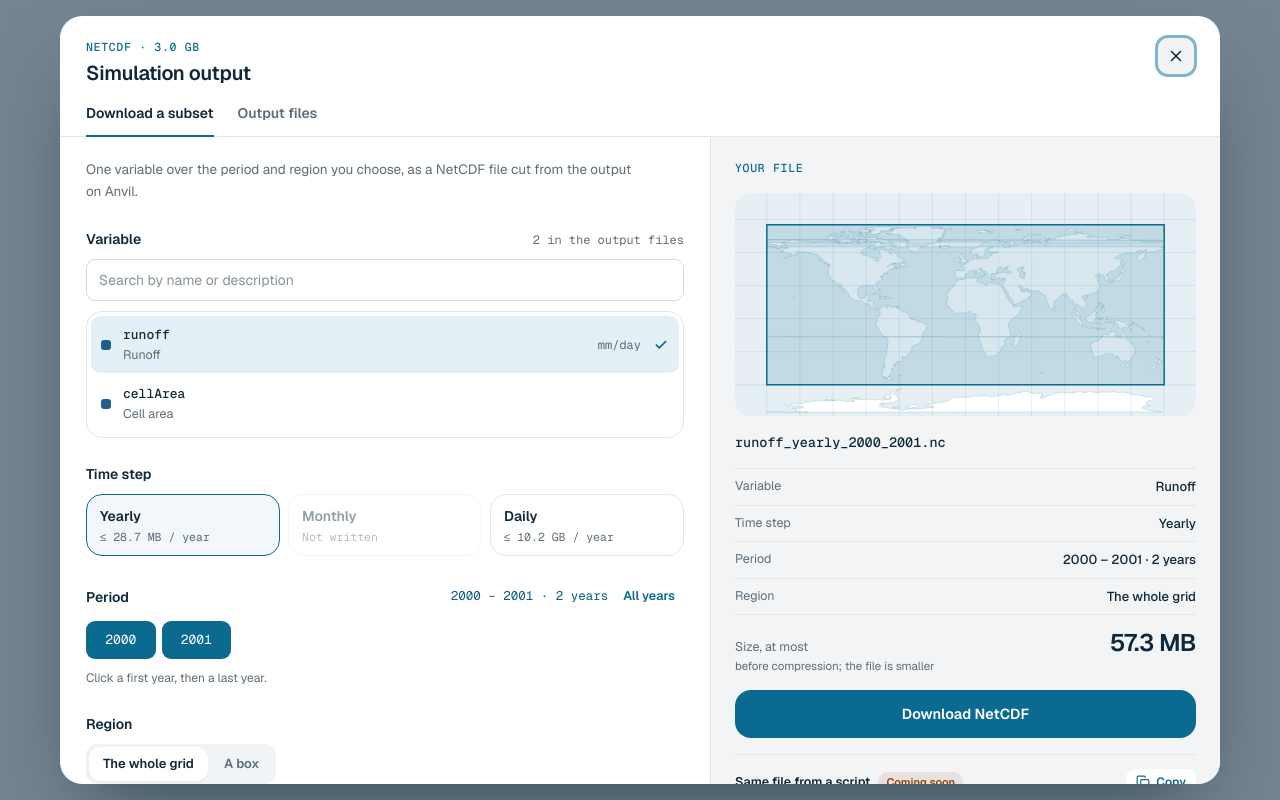
Test case: the subset tab › downloads a box's subset under its own name, and has the same request as a command
Expected: the element named "Variable" is shown, [86, 311, 684, 438]
Click the radio button labelled "A box" at x=242, y=764, box [210, 747, 273, 781]
(page scrolled)
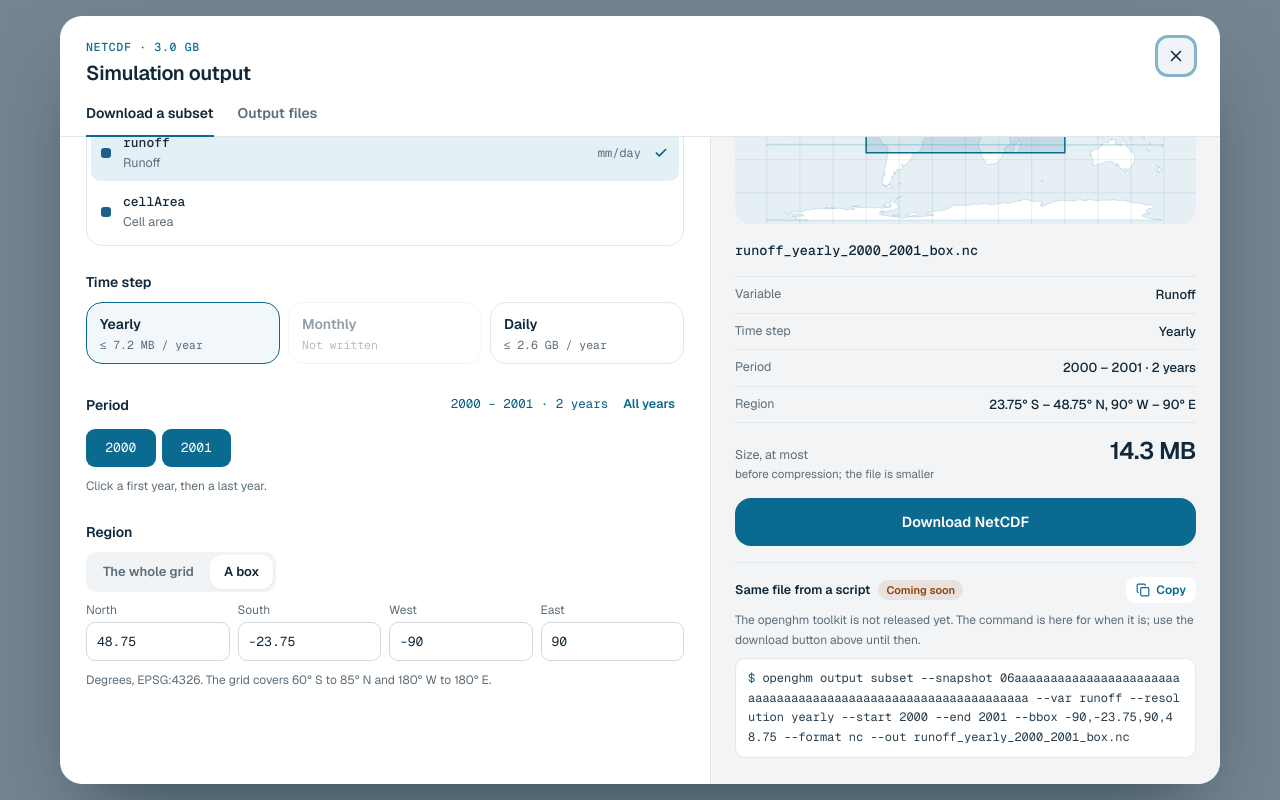
Replace the text in the number field labelled "west" with "-112" at x=461, y=641, box [389, 622, 532, 661]
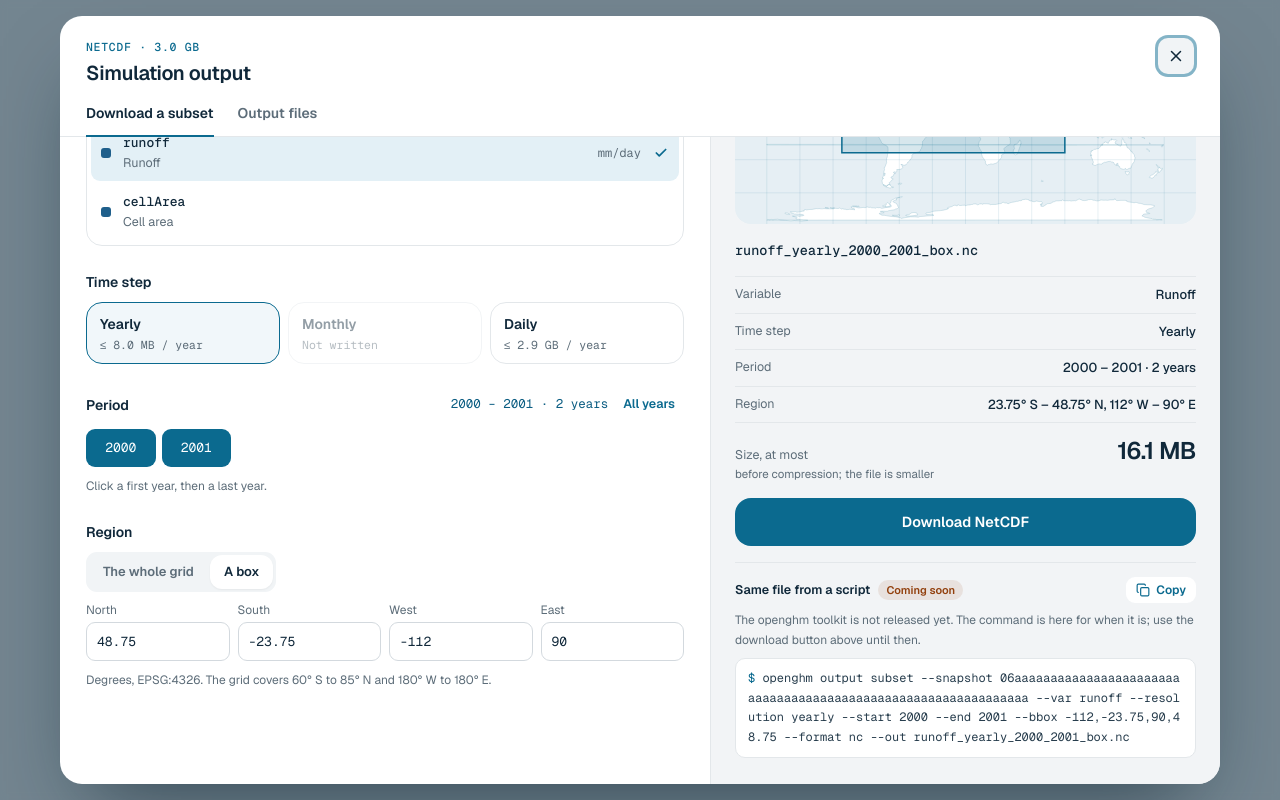
Replace the text in the number field labelled "east" with "-104" at x=612, y=641, box [540, 622, 684, 661]
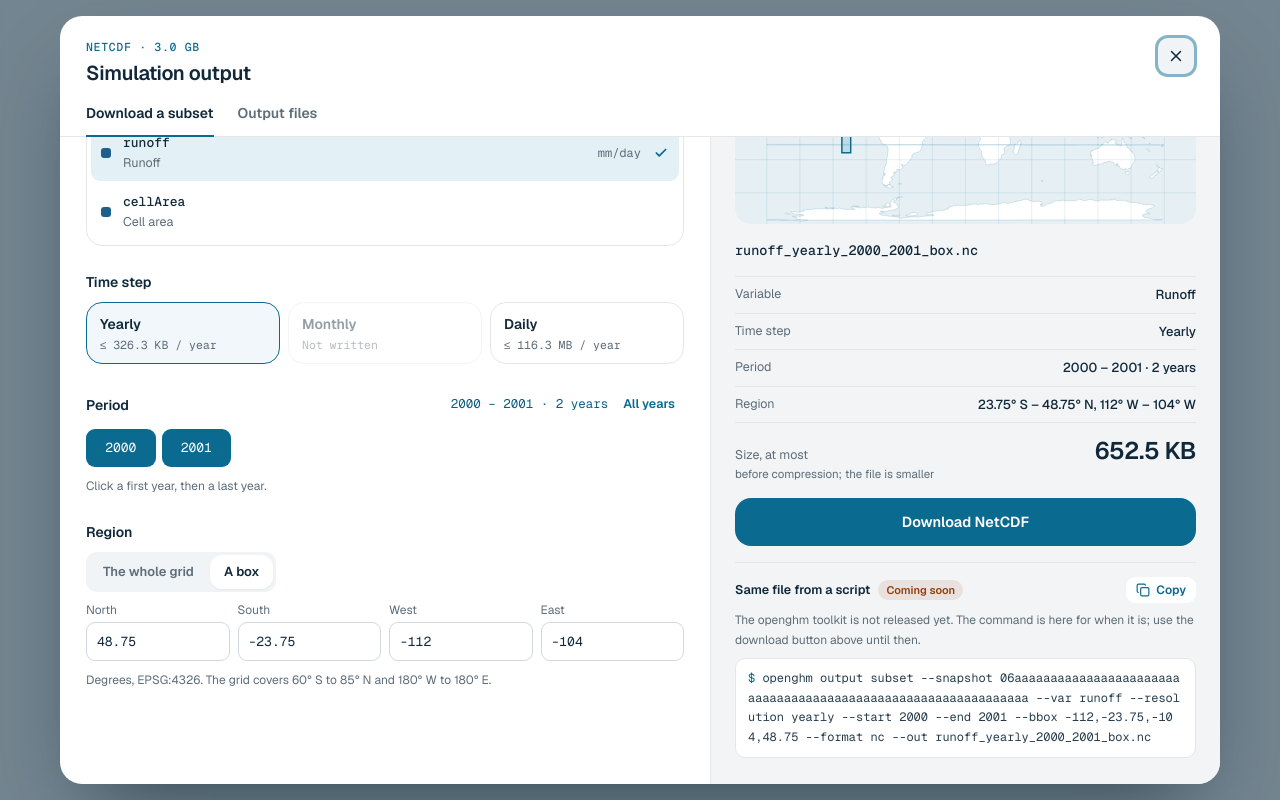
Replace the text in the number field labelled "south" with "40" at x=309, y=641, box [238, 622, 381, 661]
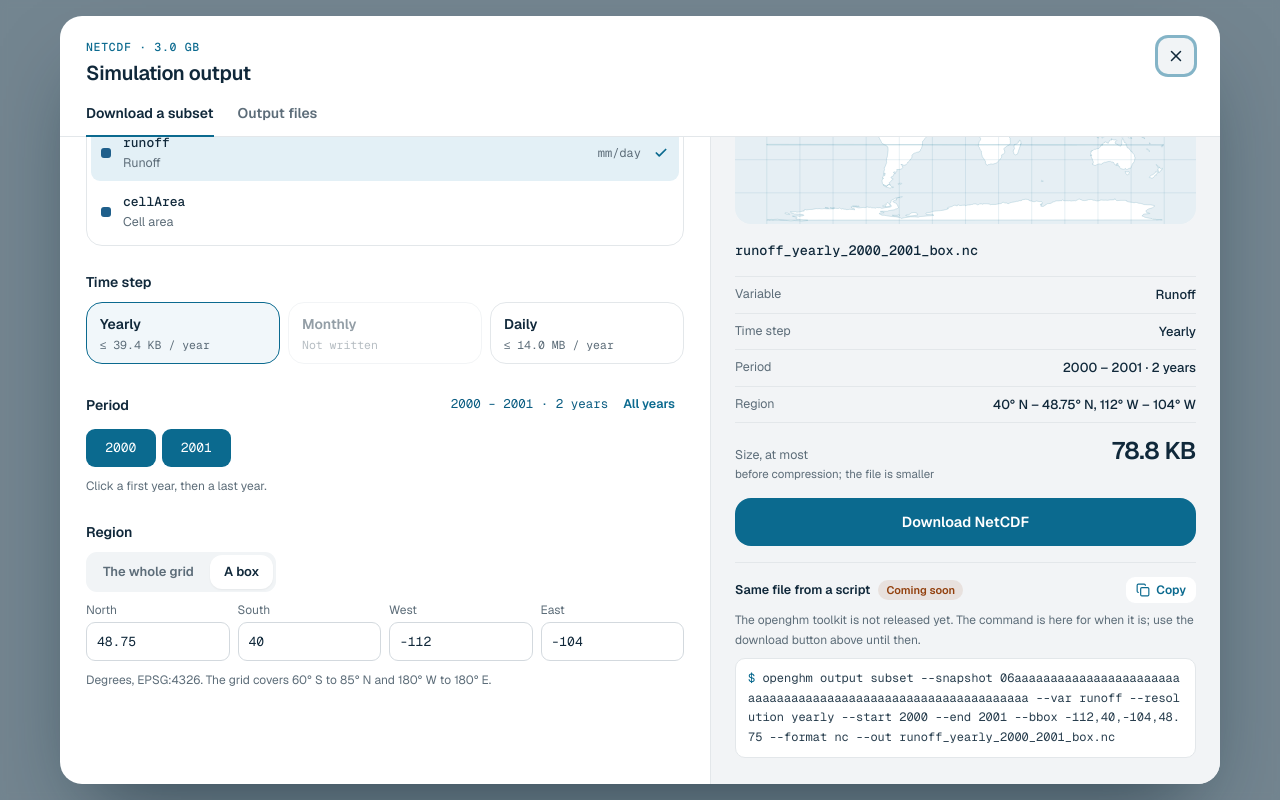
Replace the text in the number field labelled "north" with "46" at x=158, y=641, box [86, 622, 230, 661]
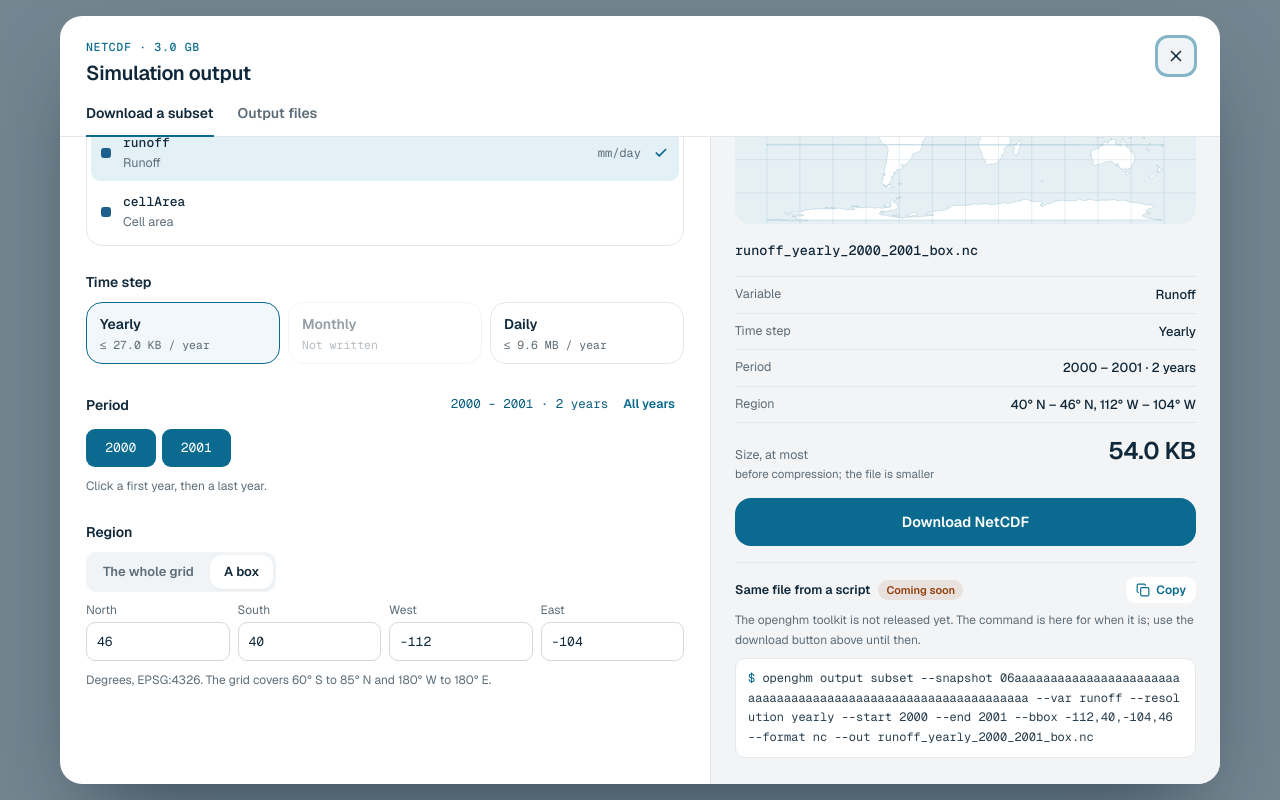
Expected: the text "40° N – 46° N, 112° W – 104° W" is shown, [1011, 395, 1196, 414]
Expected: the text "54.0 KB" is shown, [1108, 435, 1196, 467]
Expected: the text "openghm output subset" shows "--bbox -112,40,-104,46", [748, 670, 1180, 745]
Click the button "Download NetCDF" at x=966, y=522, box [735, 498, 1196, 546]
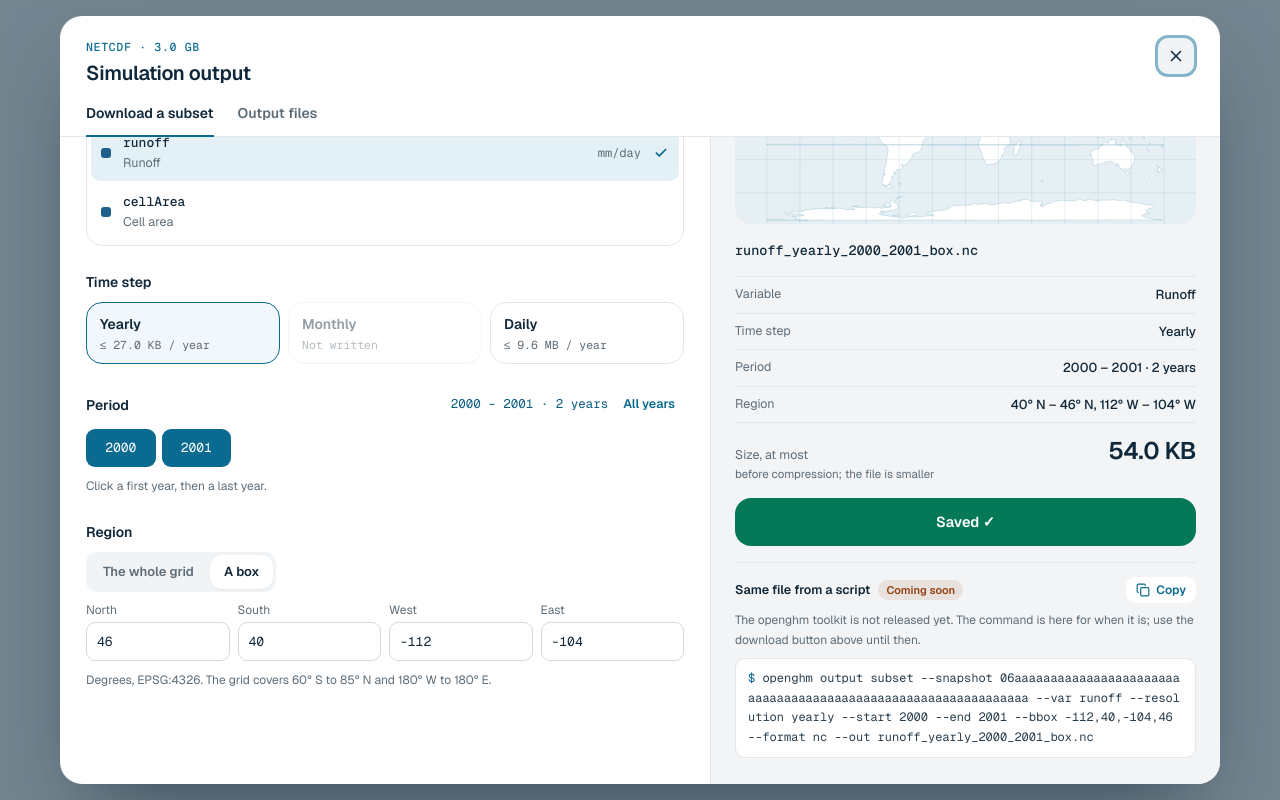
Expected: the button "Saved ✓" is shown, [735, 498, 1196, 546]
